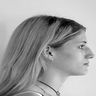ear: (38, 41, 59, 64)
